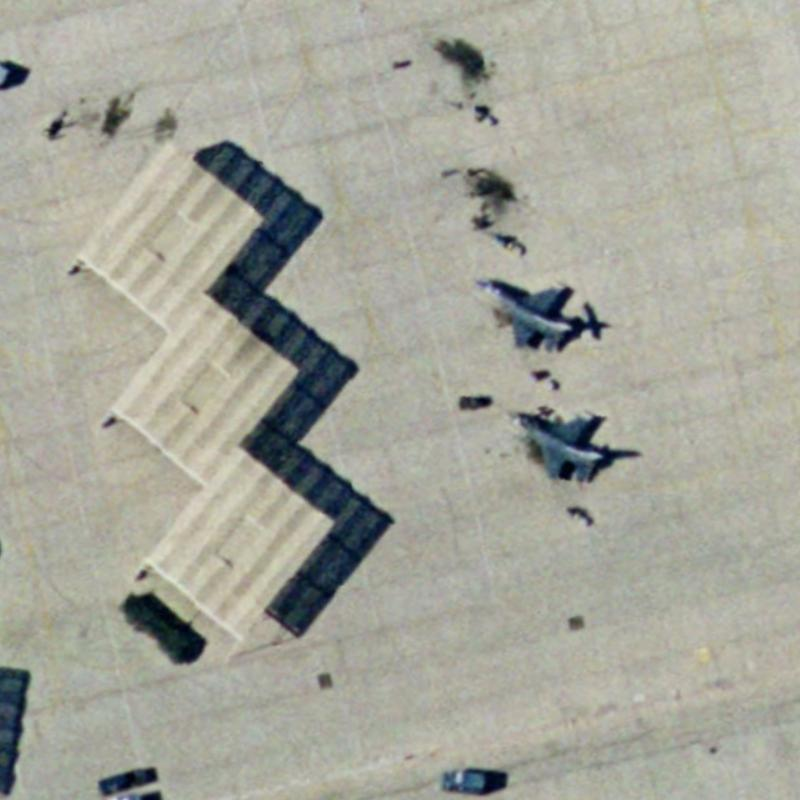A5: (490, 402, 615, 488), (464, 270, 582, 357)
